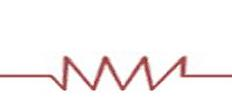resistor: (37, 41, 188, 91)
